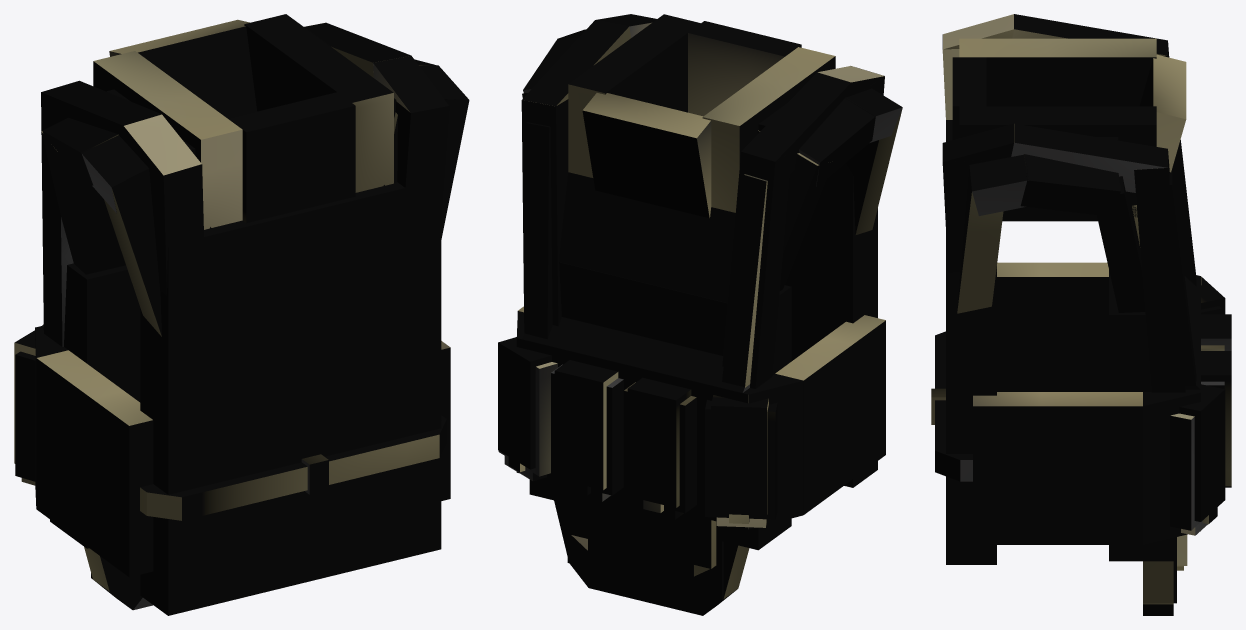
Rendered from killa.obj.
3 renders of one model, left to right at view 1: azimuth 30°, elevation 25°; view 2: azimuth 150°, elevation 25°; view 3: azimuth 270°, elevation 25°, orthographic. The views are drawn at different scales.
Visible parts, largest first — view 1: assault_brf; view 2: assault_brf; view 3: assault_brf.
Part boxes in pixels (<box>): assault_brf: <box>14,14,469,615</box>; assault_brf: <box>498,14,902,615</box>; assault_brf: <box>931,14,1231,615</box>.
Size of the model in its own units: 0.6959 by 1.04 by 0.5516.
